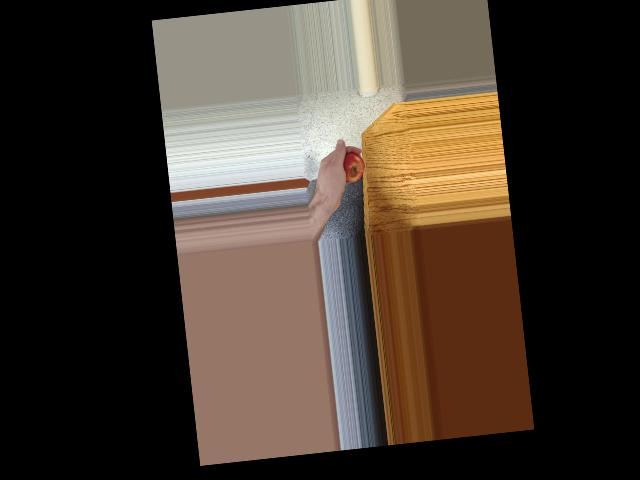apple: (330, 149, 367, 188)
